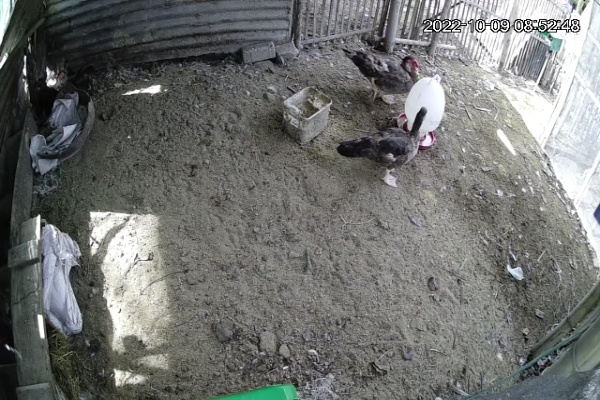Entog: (329, 101, 444, 174), (333, 43, 427, 100)
